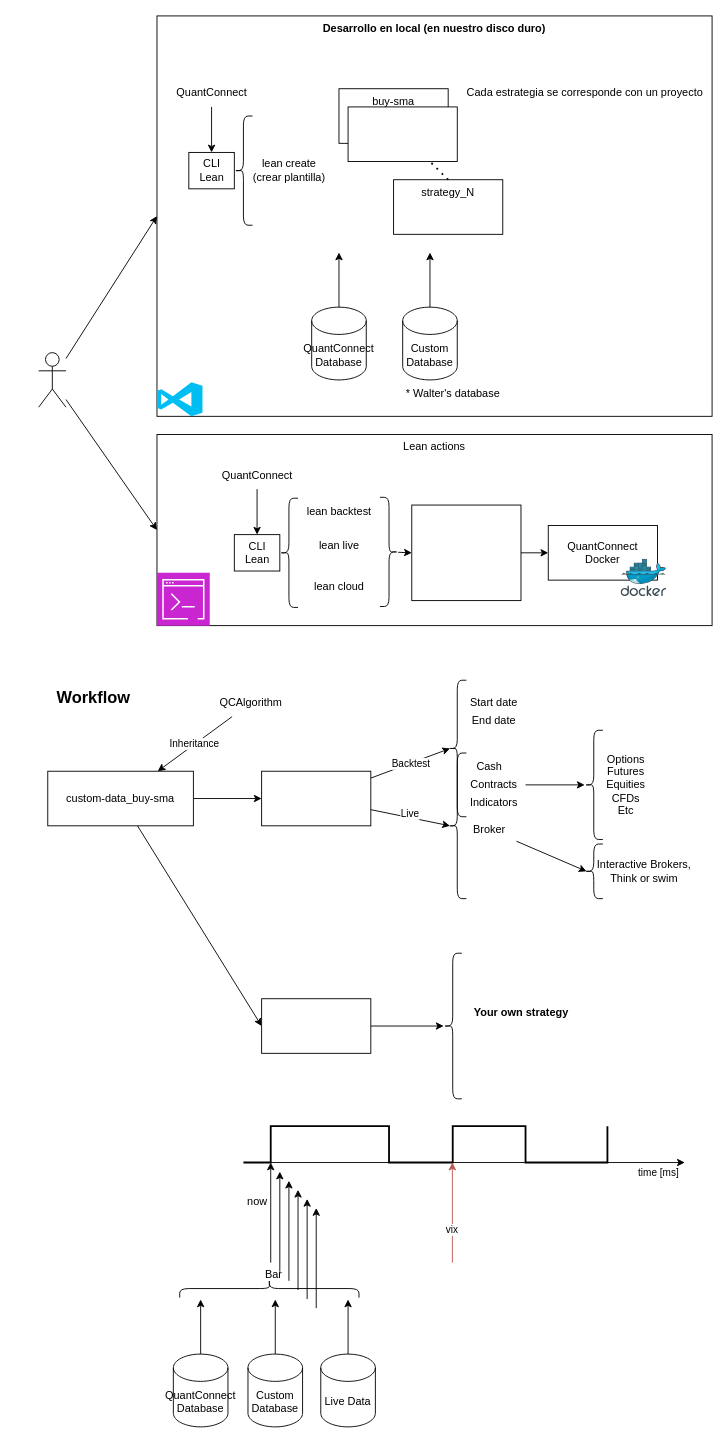
Some shapes in this 728 by 1443 pixel diagram are drawn without their labels. The centre of each missing label's shape, as x and y in pixels:
buy-and-hold: the point at 402,134
Initialization: the point at 316,798
OnData: the point at 316,1025
source code + database + etc: the point at 466,552
Terminal: the point at 183,599
VIsual Studio Code: the point at 179,399
Walter & Bryan: the point at 52,379
